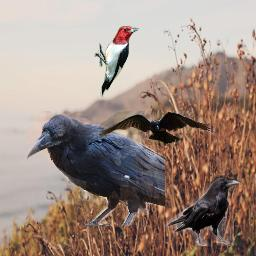Crow: (26, 111, 165, 226), (166, 175, 241, 246), (99, 111, 212, 150)
Woodpecker: (94, 26, 139, 98)
